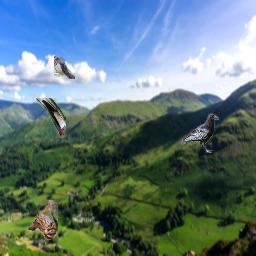Crow: (181, 113, 219, 153)
Sparrow: (27, 200, 58, 240)
Swallow: (36, 98, 66, 138), (54, 56, 75, 79)
